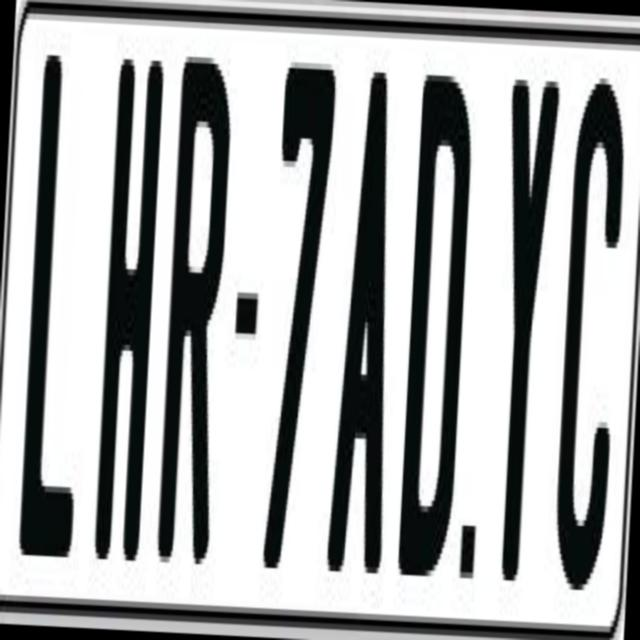7: (260, 62, 342, 582)
A: (326, 59, 411, 592)
C: (548, 65, 628, 591)
D: (397, 58, 483, 572)
H: (90, 48, 166, 556)
L: (14, 55, 96, 569)
R: (158, 39, 242, 559)
Y: (483, 68, 562, 576)
